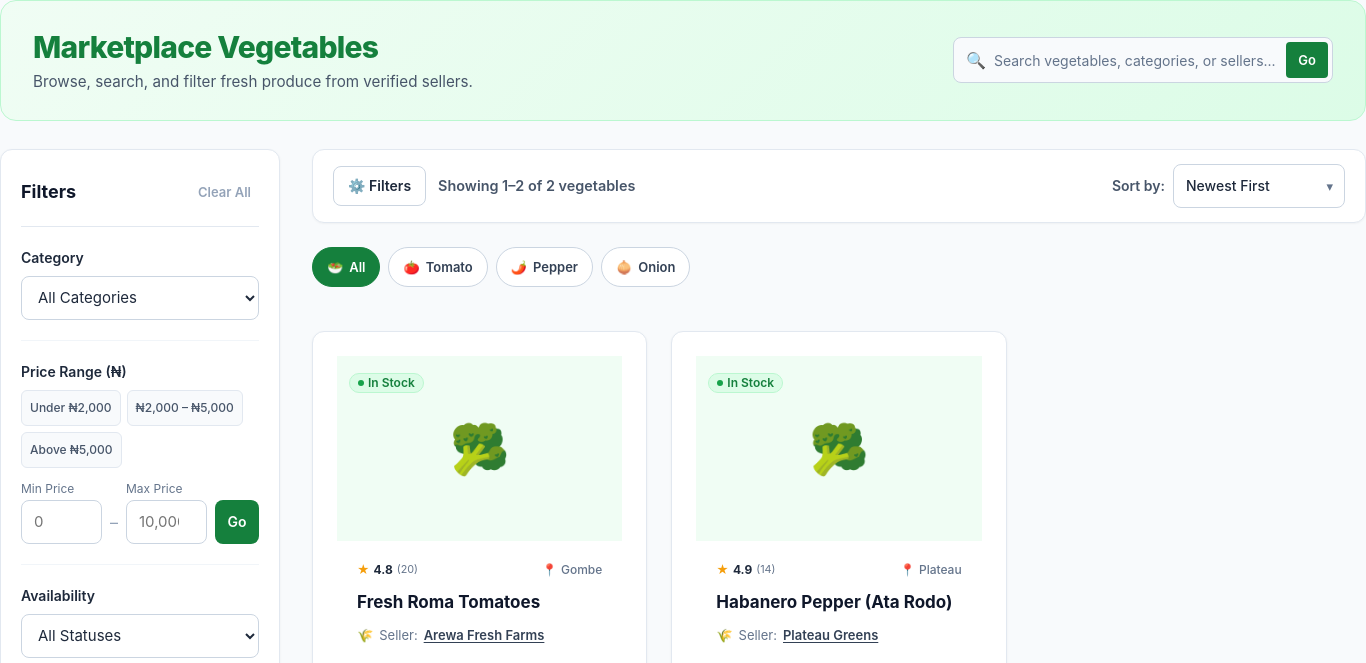
Category Browsing (FE-049, MKT-08) › 2. Filter Panel Category Browsing (MKT-08, SRCH-02) › lists categories in FilterPanel dropdown and updates URL on selection
// Change category to Pepper
Select "Pepper" in the dropdown labelled "Category" at (140, 298), box 21,276 -> 259,320
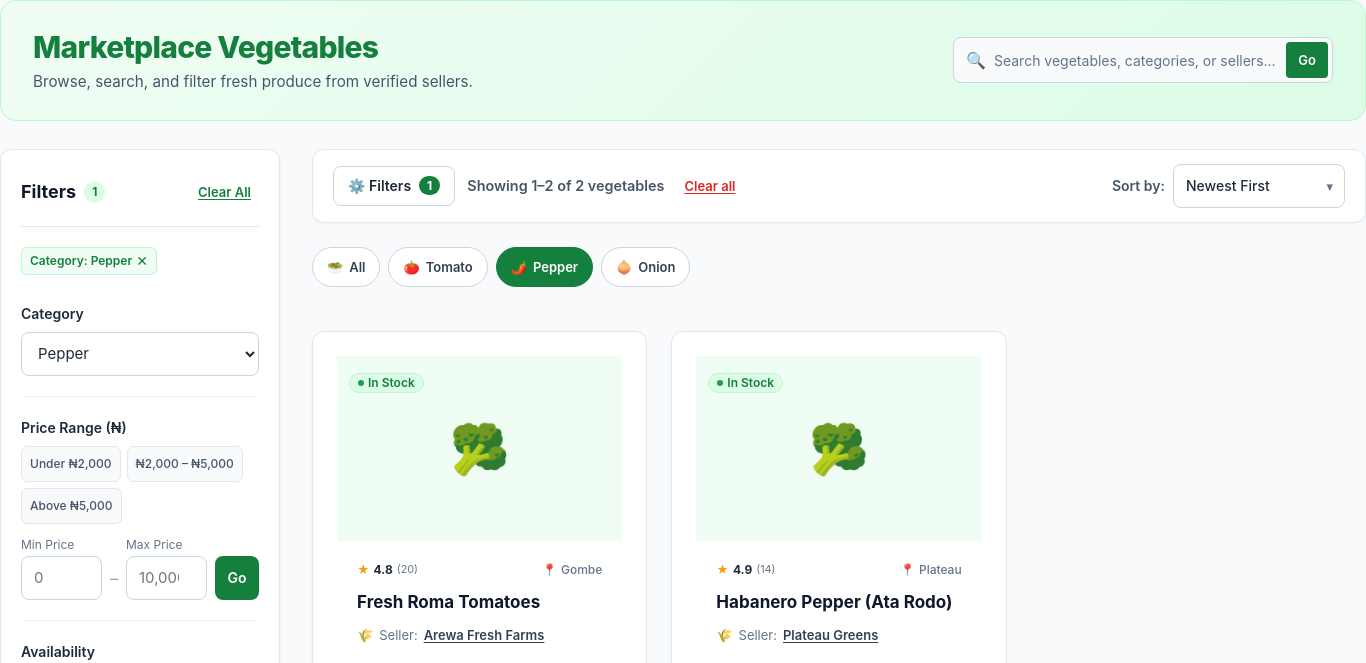
expect the text "Category: Pepper ✕" is shown: met, box 21,247 -> 157,275
